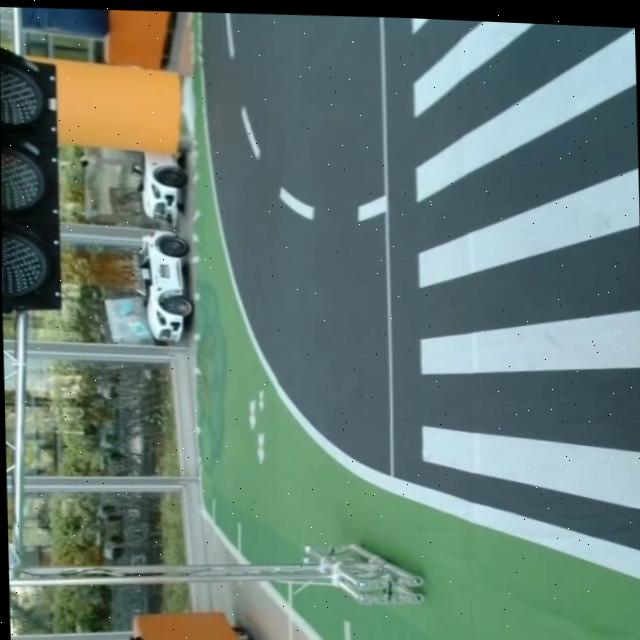traffic-light: (0, 40, 65, 318)
